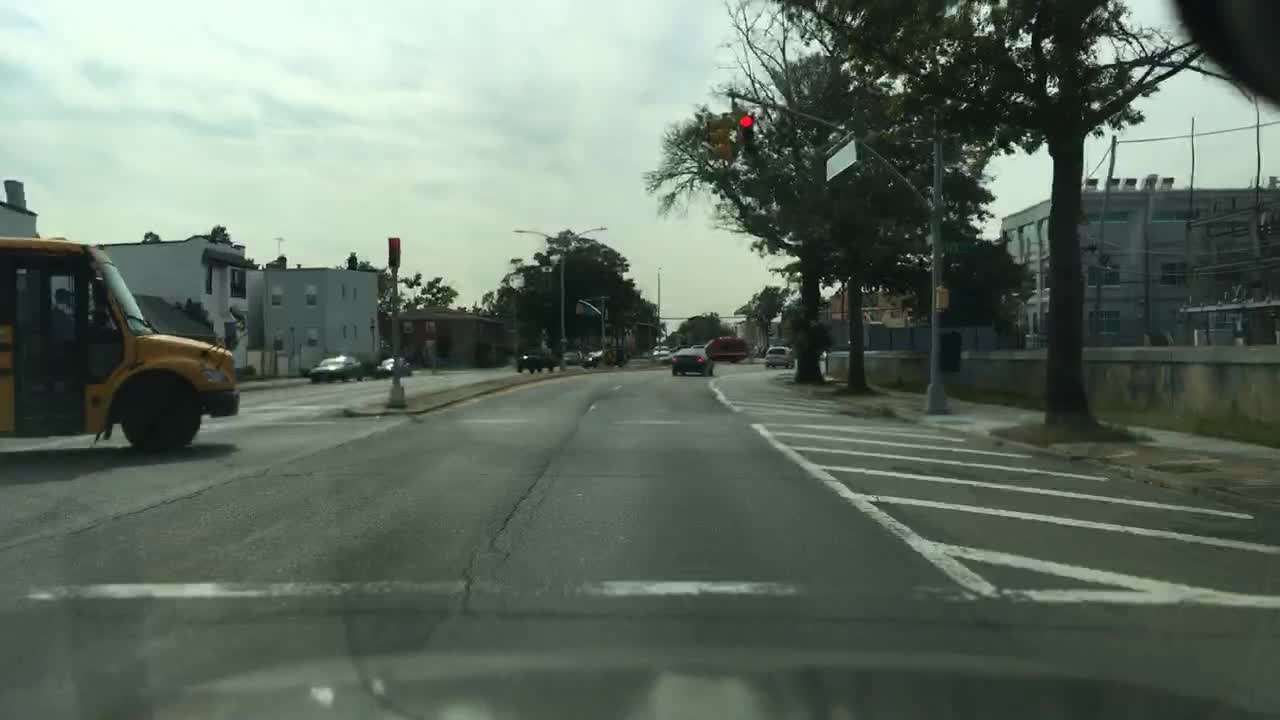bus: (0, 235, 240, 447)
car: (306, 354, 364, 386), (671, 347, 715, 380), (702, 336, 750, 364), (516, 347, 555, 374), (375, 357, 412, 377), (764, 347, 794, 368), (651, 343, 672, 366), (603, 346, 626, 364), (559, 348, 581, 366), (750, 342, 770, 361), (582, 349, 600, 367), (816, 343, 832, 359)
traffic light: (707, 116, 731, 161), (737, 111, 757, 149), (932, 284, 950, 311), (387, 236, 400, 271), (766, 323, 775, 337), (599, 335, 612, 344)
traffic sign: (824, 139, 853, 181), (601, 322, 613, 328)
